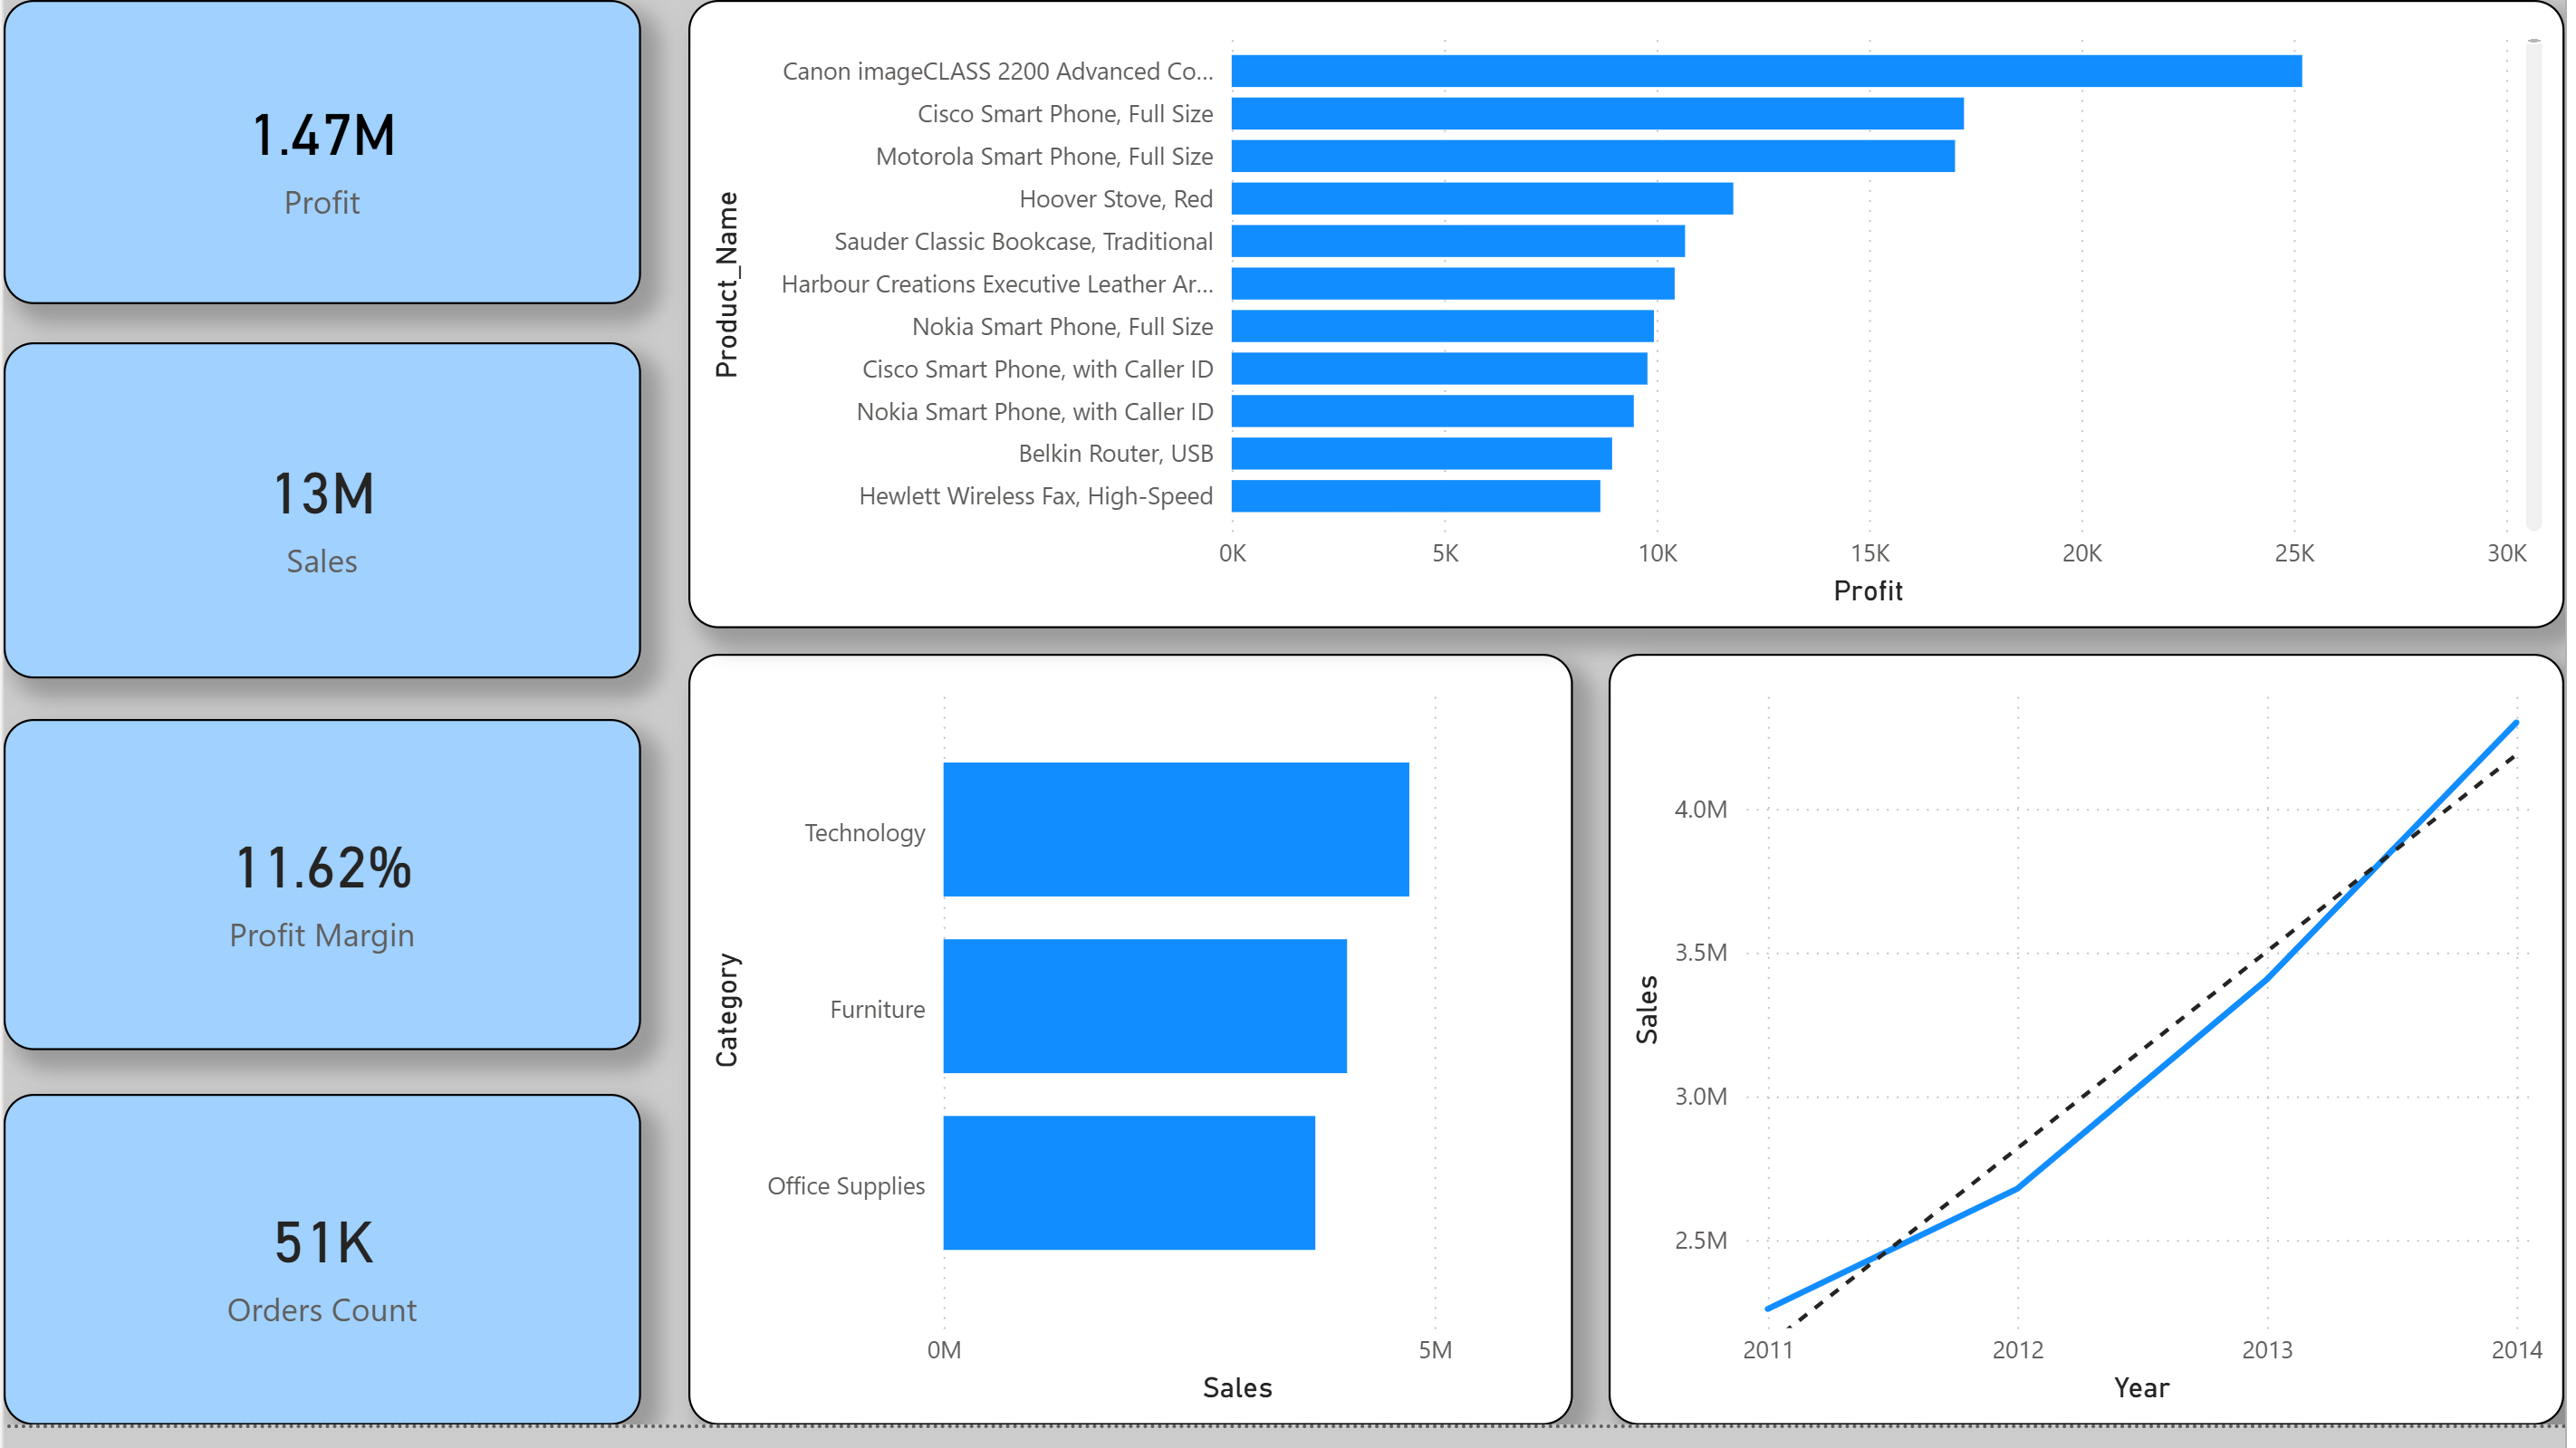

Layout of this report page (visuals, bound fields, positions):
{"tool":"powerbi","page":{"name":"Overview Dashboard","canvas":[1280,720],"ordinal":0},"visuals":[{"type":"card","fields":{"Values":["Sum(SuperStoreOrders - SuperStoreOr.profit)"]},"box":[0,8,318.4,152],"z":0},{"type":"card","fields":{"Values":["Sum(SuperStoreOrders - SuperStoreOr.sales)"]},"box":[0,178.9,318.4,168.1],"z":1000},{"type":"card","fields":{"Values":["SuperStoreOrders - SuperStoreOr.Profit Margin"]},"box":[0,367.6,318.4,165.5],"z":2000},{"type":"card","fields":{"Values":["SuperStoreOrders - SuperStoreOr.Orders Count"]},"box":[0,554.5,318.4,165.5],"z":3000},{"type":"clusteredBarChart","fields":{"Category":["SuperStoreOrders - SuperStoreOr.category"],"Y":["Sum(SuperStoreOrders - SuperStoreOr.sales)"]},"box":[342.6,334.5,441.8,385.5],"z":4000},{"type":"barChart","fields":{"Category":["SuperStoreOrders - SuperStoreOr.product_name"],"Y":["Sum(SuperStoreOrders - SuperStoreOr.profit)"]},"box":[342.6,8,937.3,313.9],"z":5000},{"type":"lineChart","fields":{"Y":["Sum(SuperStoreOrders - SuperStoreOr.sales)"],"Category":["SuperStoreOrders - SuperStoreOr.year"]},"box":[802.3,334.5,477.6,385.5],"z":6000}]}

Visuals, with their boxes in screenshot pixels (x1, y1, x2, y2), scaled from the page's 1280x720 canvas onto the 2576x1448 screenshot:
card - Sum(SuperStoreOrders - SuperStoreOr.profit): pyautogui.locateOnScreen(0, 16, 640, 321)
card - Sum(SuperStoreOrders - SuperStoreOr.sales): pyautogui.locateOnScreen(0, 360, 640, 698)
card - SuperStoreOrders - SuperStoreOr.Profit Margin: pyautogui.locateOnScreen(0, 739, 640, 1072)
card - SuperStoreOrders - SuperStoreOr.Orders Count: pyautogui.locateOnScreen(0, 1115, 640, 1447)
clusteredBarChart - SuperStoreOrders - SuperStoreOr.category x Sum(SuperStoreOrders - SuperStoreOr.sales): pyautogui.locateOnScreen(689, 673, 1579, 1447)
barChart - SuperStoreOrders - SuperStoreOr.product_name x Sum(SuperStoreOrders - SuperStoreOr.profit): pyautogui.locateOnScreen(689, 16, 2575, 647)
lineChart - Sum(SuperStoreOrders - SuperStoreOr.sales) x SuperStoreOrders - SuperStoreOr.year: pyautogui.locateOnScreen(1615, 673, 2575, 1447)
